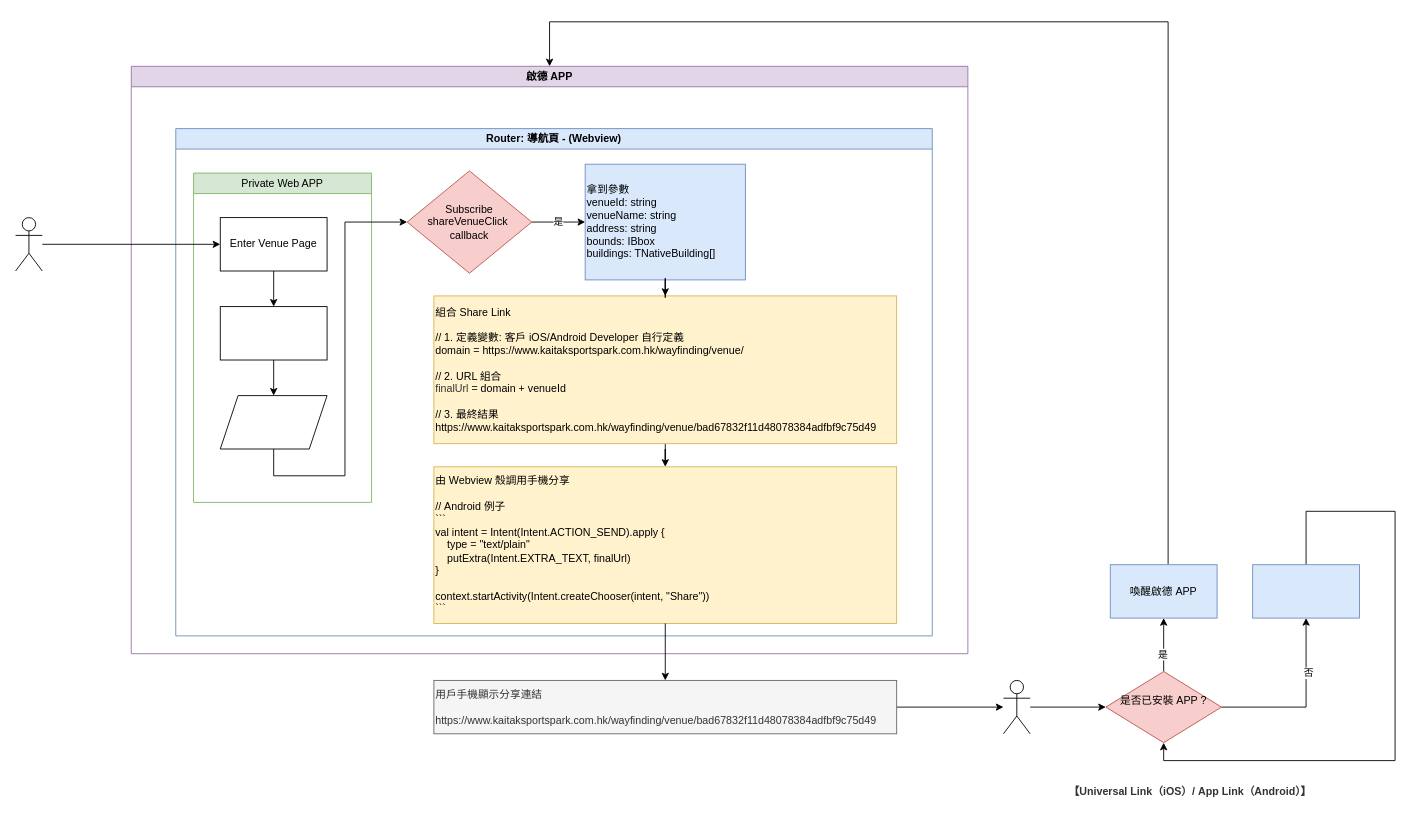
The diagram is 1418 pixels wide and 832 high, and some of its shapes have lost their labels. Each missing label, with the centre of its shape:
"Actor" goes at pixel 28 244.
"Share Venue" goes at pixel 273 333.
"Trigger shareVenueClick" goes at pixel 273 422.
"用戶查看網址" goes at pixel 1016 707.
"跳轉至 APP Store" goes at pixel 1305 591.
